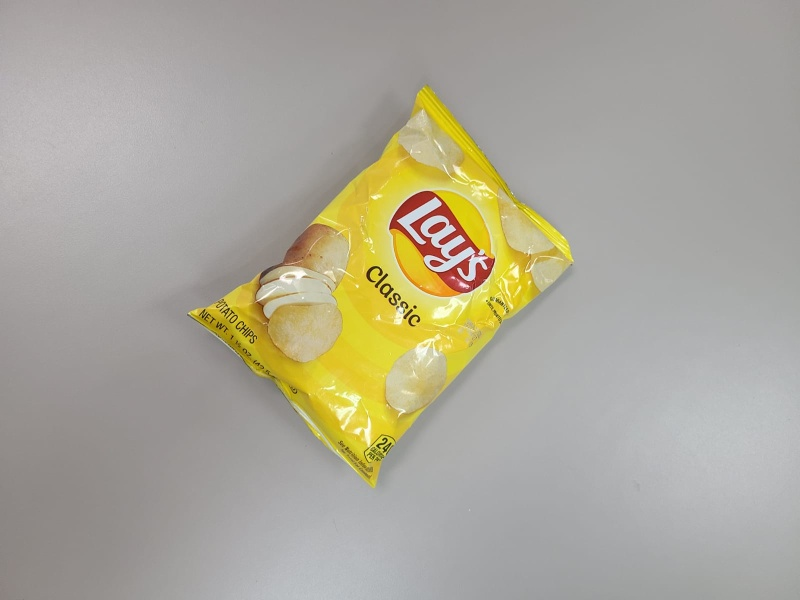lays: (185, 82, 578, 490)
